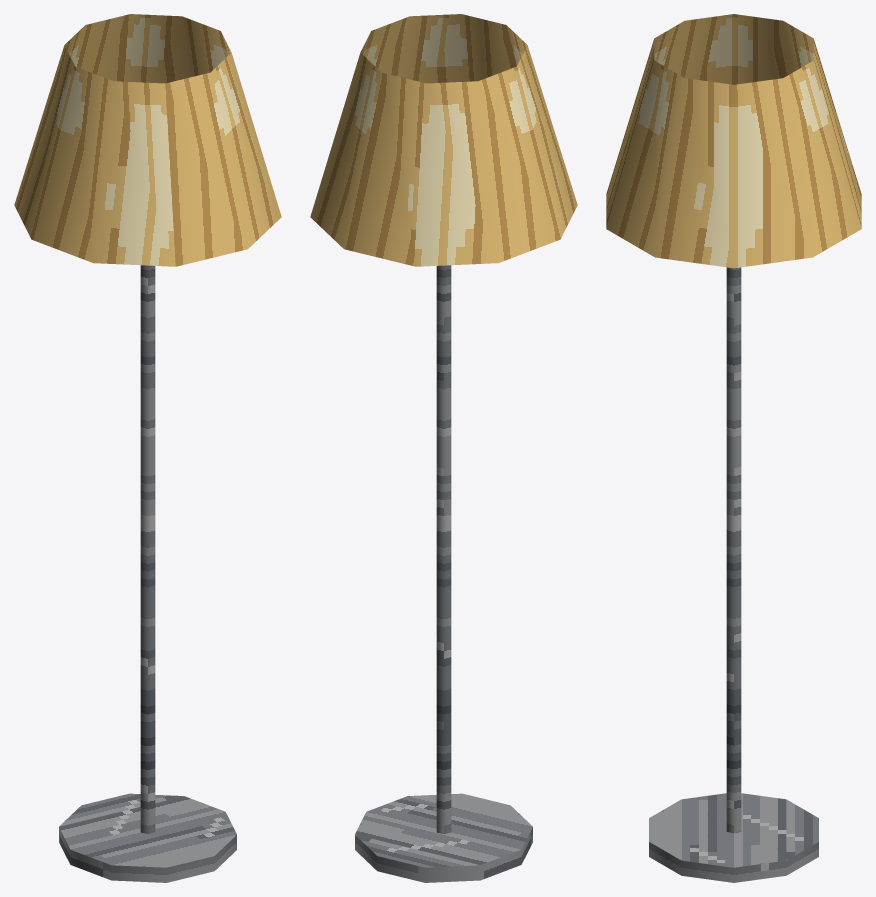
File: RES_Lamp_Floor.obj
3 views of the same model, side by side, from view 1: azimuth 30°, elevation 25°; view 2: azimuth 150°, elevation 25°; view 3: azimuth 270°, elevation 25° (orthographic).
Visible parts, largest first — view 1: RES_Lamp_Floor_Mesh_M_Res_Lampshade, RES_Lamp_Floor_Mesh_M_Furn_MetalBrushed; view 2: RES_Lamp_Floor_Mesh_M_Res_Lampshade, RES_Lamp_Floor_Mesh_M_Furn_MetalBrushed; view 3: RES_Lamp_Floor_Mesh_M_Res_Lampshade, RES_Lamp_Floor_Mesh_M_Furn_MetalBrushed.
Part boxes in pixels (x1=…): RES_Lamp_Floor_Mesh_M_Res_Lampshade: x1=14, y1=14, x2=281, y2=266; RES_Lamp_Floor_Mesh_M_Furn_MetalBrushed: x1=59, y1=265, x2=236, y2=882; RES_Lamp_Floor_Mesh_M_Res_Lampshade: x1=310, y1=14, x2=577, y2=266; RES_Lamp_Floor_Mesh_M_Furn_MetalBrushed: x1=355, y1=265, x2=532, y2=882; RES_Lamp_Floor_Mesh_M_Res_Lampshade: x1=606, y1=14, x2=861, y2=268; RES_Lamp_Floor_Mesh_M_Furn_MetalBrushed: x1=649, y1=267, x2=818, y2=882.
Bounding box in the file's own units: 0.48 × 1.57 × 0.4566.
3 materials, 2 textured.
